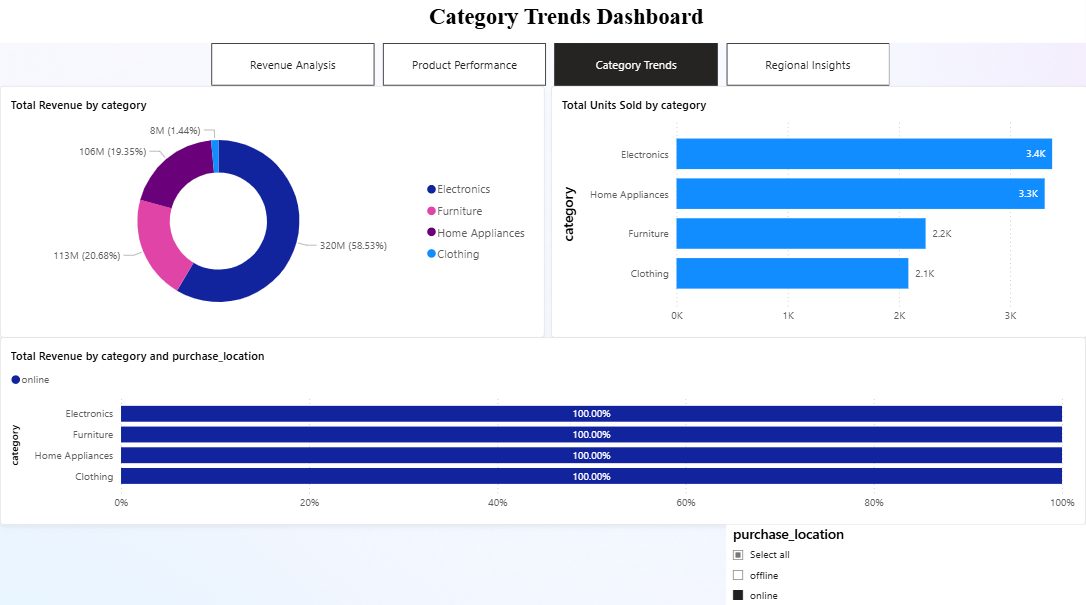

Layout of this report page (visuals, bound fields, positions):
{"tool":"powerbi","page":{"name":"Category Trends","canvas":[1280,720],"ordinal":2},"visuals":[{"type":"donutChart","fields":{"Category":["cleaned_retail_data.category"],"Y":["cleaned_retail_data.Total Revenue"]},"box":[0,102.3,640.6,295.9],"z":0},{"type":"clusteredBarChart","fields":{"Category":["cleaned_retail_data.category"],"Y":["cleaned_retail_data.Total Units Sold"]},"box":[648.4,102.3,631.1,295.9],"z":1000},{"type":"hundredPercentStackedBarChart","fields":{"Category":["cleaned_retail_data.category"],"Y":["cleaned_retail_data.Total Revenue"],"Series":["cleaned_retail_data.purchase_location"]},"box":[0,398.2,1278,220.3],"z":2000},{"type":"slicer","fields":{"Values":["cleaned_retail_data.purchase_location"]},"box":[854.6,618.5,425,100.7],"z":3000},{"type":"pageNavigator","box":[248.7,51.9,799.5,50.4],"z":4000},{"type":"textbox","box":[0,0,1278,51.9],"z":4001}]}

Visuals, with their boxes in screenshot pixels (x1, y1, x2, y2), scaled from the page's 1280x720 canvas onto the 1086x605 screenshot:
donutChart - cleaned_retail_data.category x cleaned_retail_data.Total Revenue: crop(0, 86, 544, 335)
clusteredBarChart - cleaned_retail_data.category x cleaned_retail_data.Total Units Sold: crop(550, 86, 1085, 335)
hundredPercentStackedBarChart - cleaned_retail_data.category x cleaned_retail_data.Total Revenue: crop(0, 335, 1084, 520)
slicer - cleaned_retail_data.purchase_location: crop(725, 520, 1085, 604)
pageNavigator: crop(211, 44, 889, 86)
textbox: crop(0, 0, 1084, 44)
